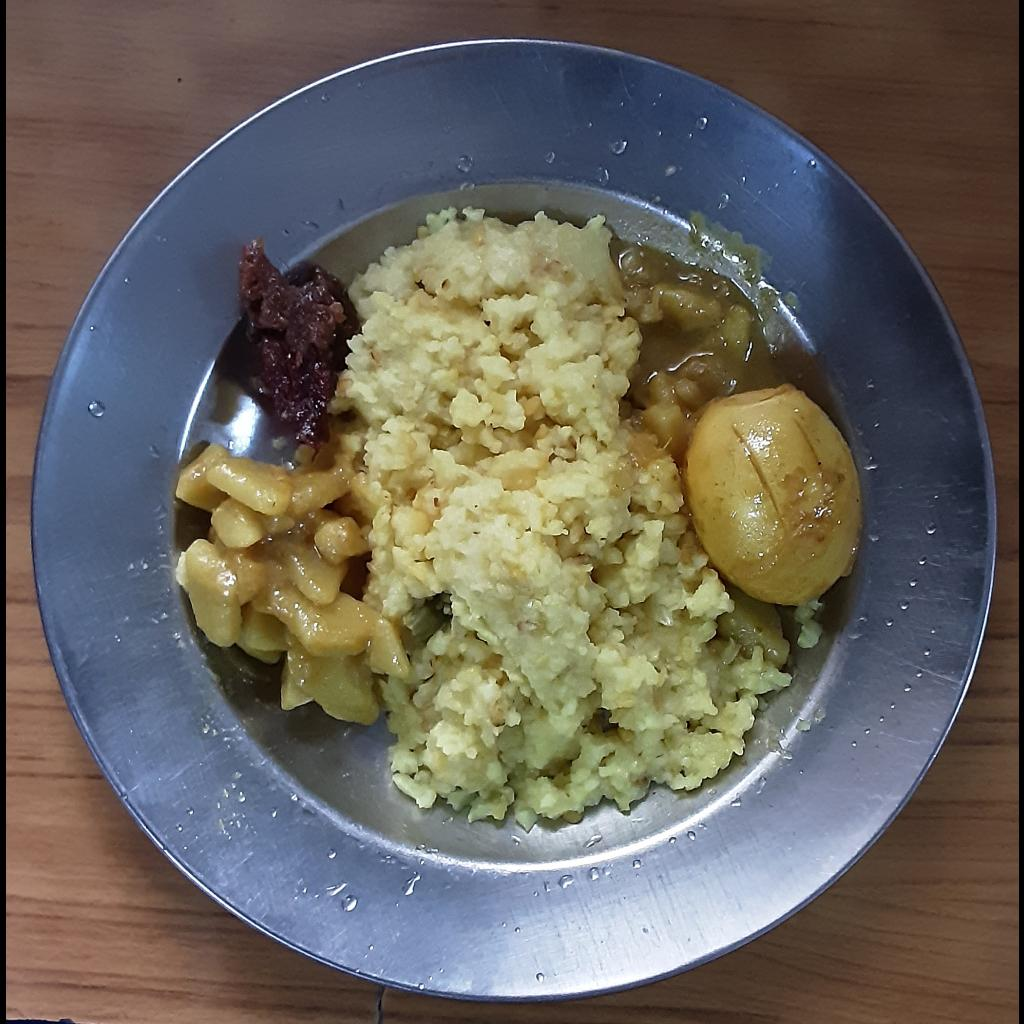achar: (240, 230, 352, 452)
egg-boiled: (680, 380, 861, 607)
khichuri: (330, 208, 789, 835)
potato: (171, 445, 402, 724)
